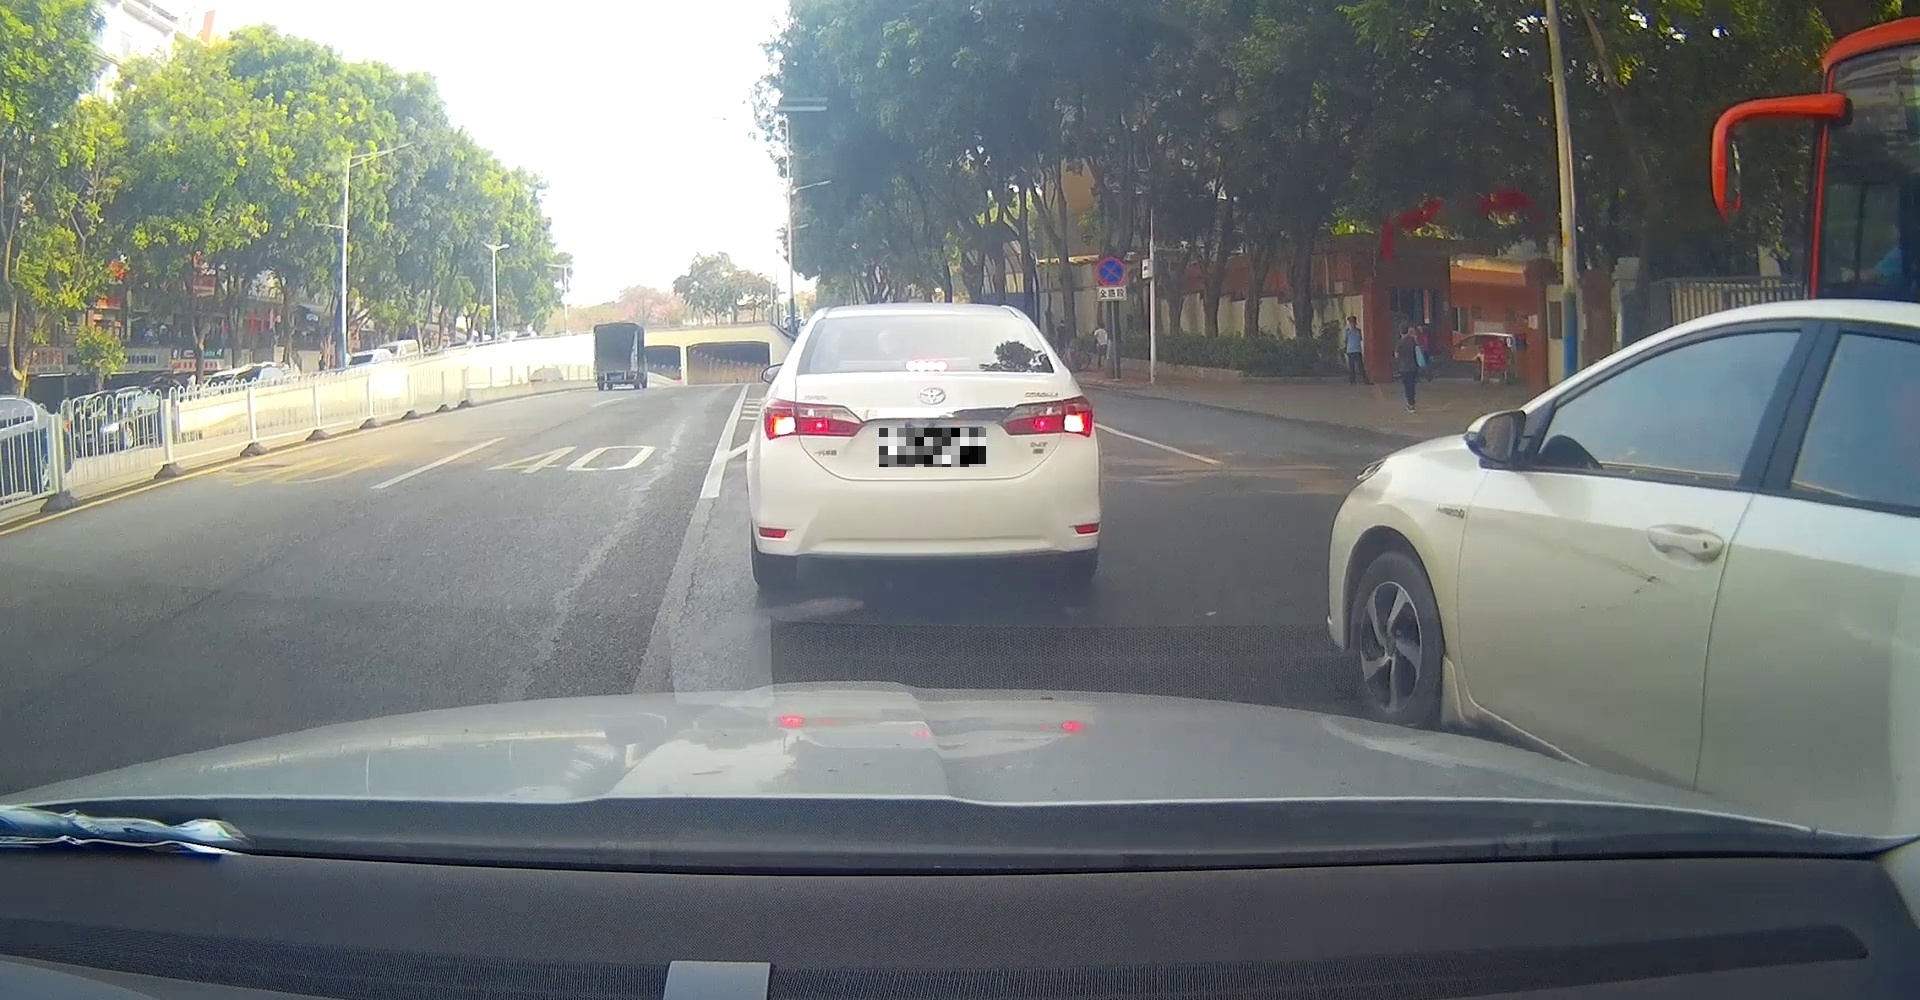L_light: (763, 396, 863, 439)
R_light: (1001, 395, 1095, 439)
T_light: (904, 360, 949, 371)
day-brake: (743, 301, 1103, 582)
plate_1: (879, 428, 985, 467)
